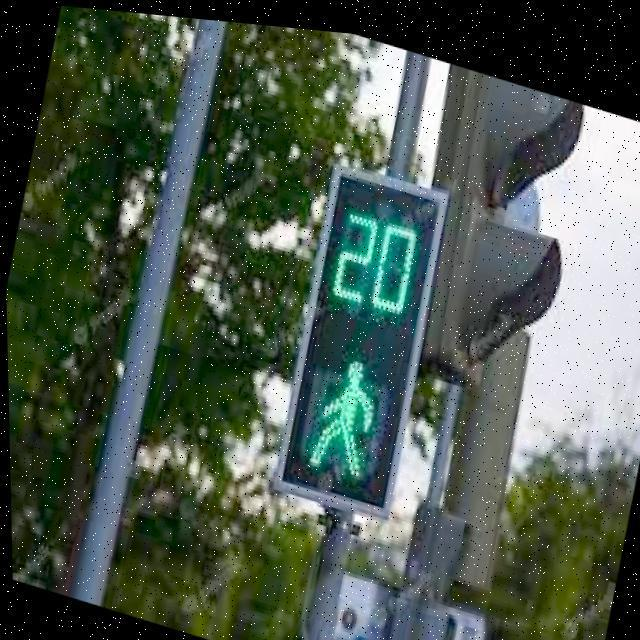green_light: (278, 184, 440, 503)
